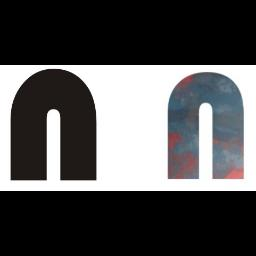n: (6, 66, 102, 184), (162, 68, 248, 186)
